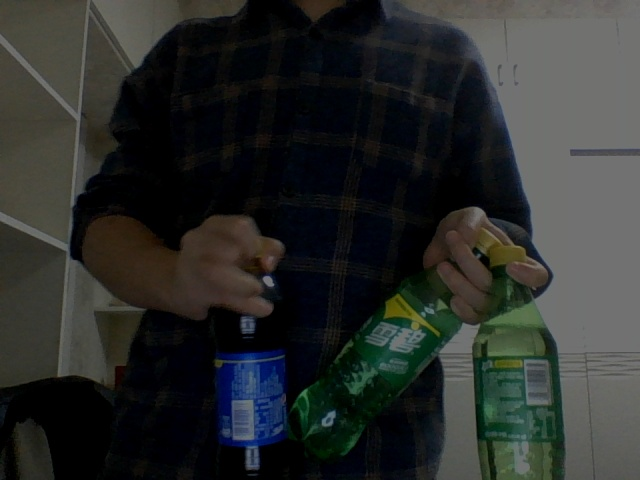Cola: (212, 238, 288, 475)
Sprite: (292, 229, 503, 457), (470, 246, 568, 477)
